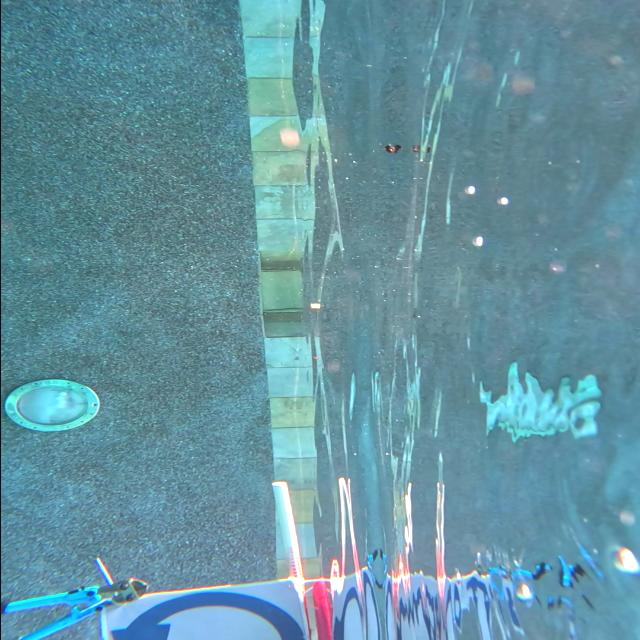blue_side: (103, 585, 294, 640)
